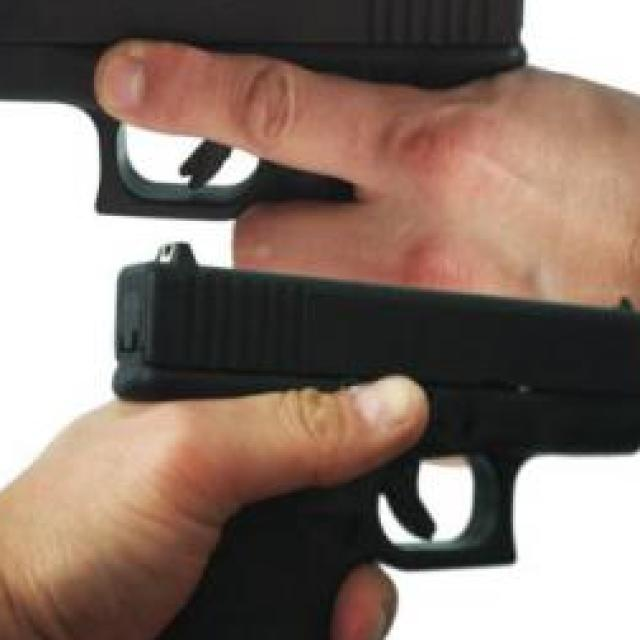pistol: (112, 244, 640, 640), (1, 0, 526, 218)
